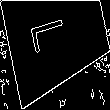L_E: (36, 19, 80, 62)
